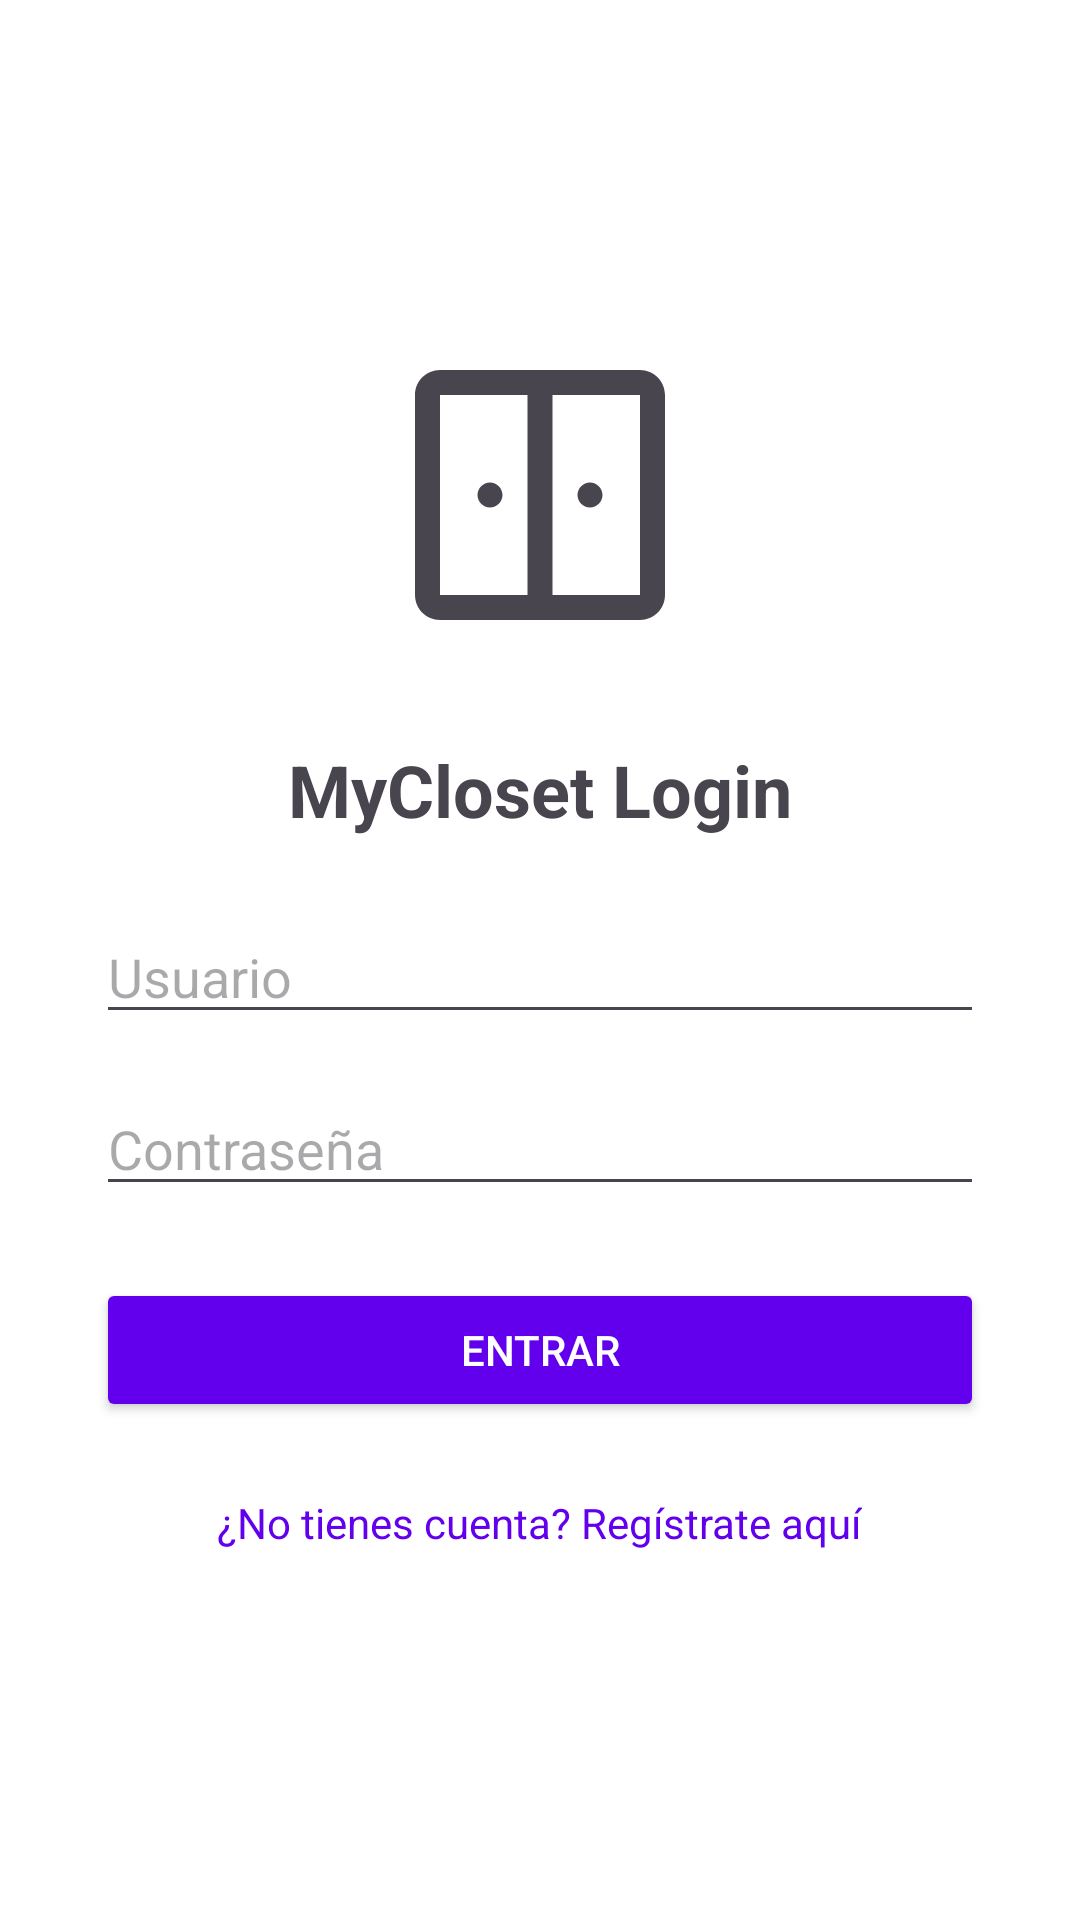

Named icons in this screenshot (1080*1920) and their bounding boxes, (x1, y1, x2, y2):
armario: (415, 370, 665, 620)
